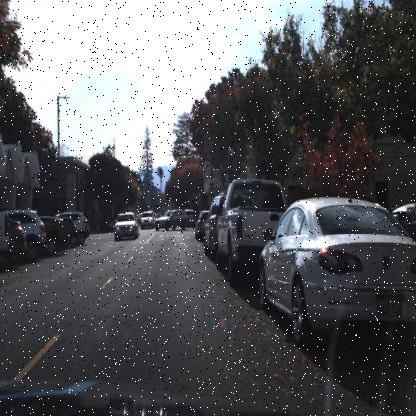car: (250, 177, 415, 369), (210, 174, 257, 292), (36, 214, 76, 256), (203, 192, 225, 259), (23, 206, 47, 266), (152, 204, 188, 236), (113, 209, 140, 242), (44, 213, 66, 253), (76, 206, 90, 245), (66, 216, 80, 248)
